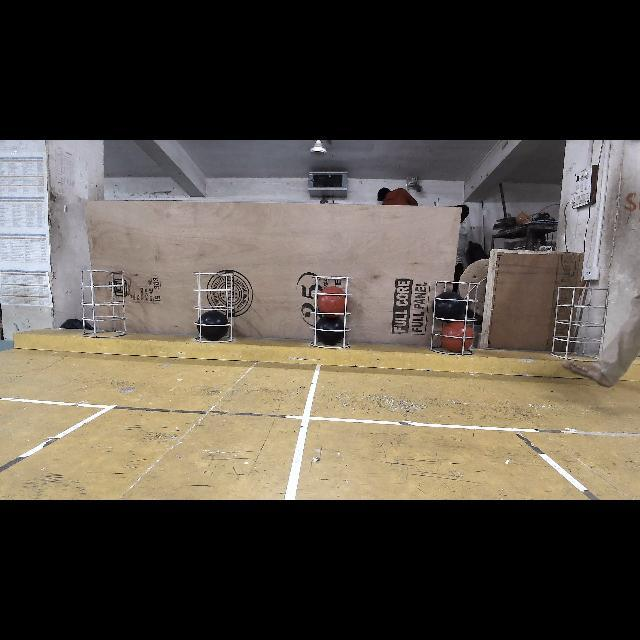P: (433, 291, 465, 321), (198, 312, 230, 340), (314, 318, 346, 344)
R: (439, 321, 473, 352), (318, 286, 347, 314)
S: (548, 286, 614, 364), (184, 271, 238, 347), (428, 278, 480, 356), (78, 268, 128, 340), (308, 273, 352, 351)
